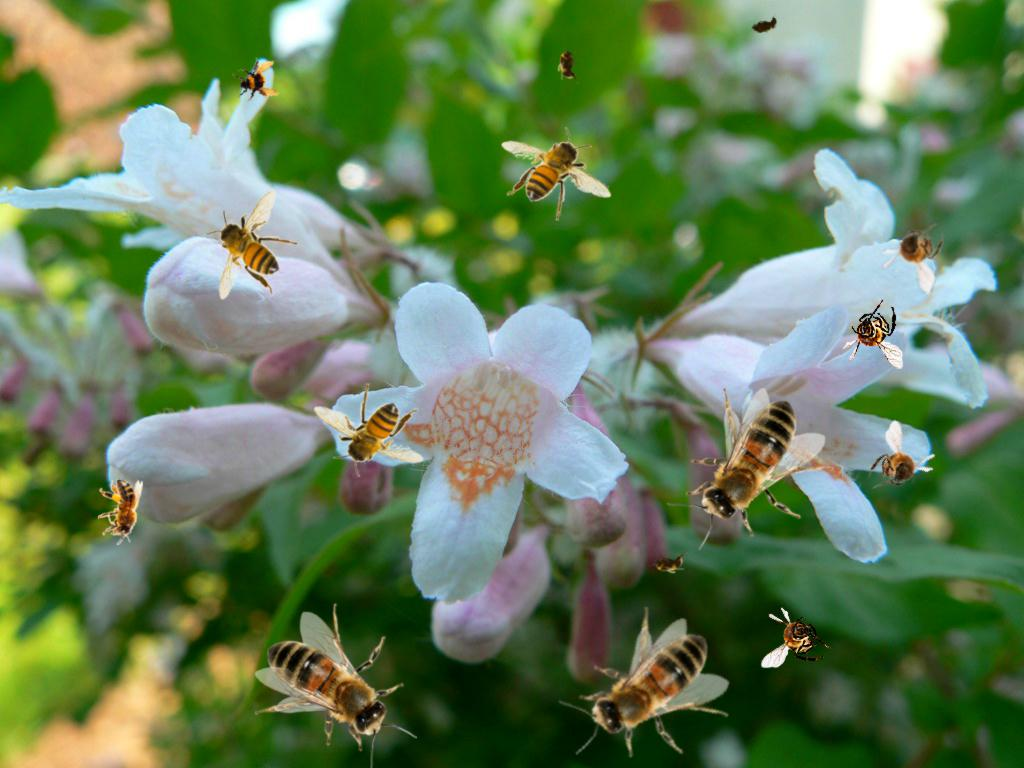Bee: (544, 590, 753, 768), (667, 388, 834, 550), (255, 603, 417, 768), (313, 383, 424, 477), (205, 189, 299, 300), (501, 127, 612, 221), (855, 419, 946, 511), (873, 207, 956, 295), (842, 299, 903, 369), (761, 607, 831, 668), (98, 479, 143, 545), (229, 53, 283, 107), (741, 9, 787, 41), (557, 44, 579, 84), (648, 552, 688, 574)
